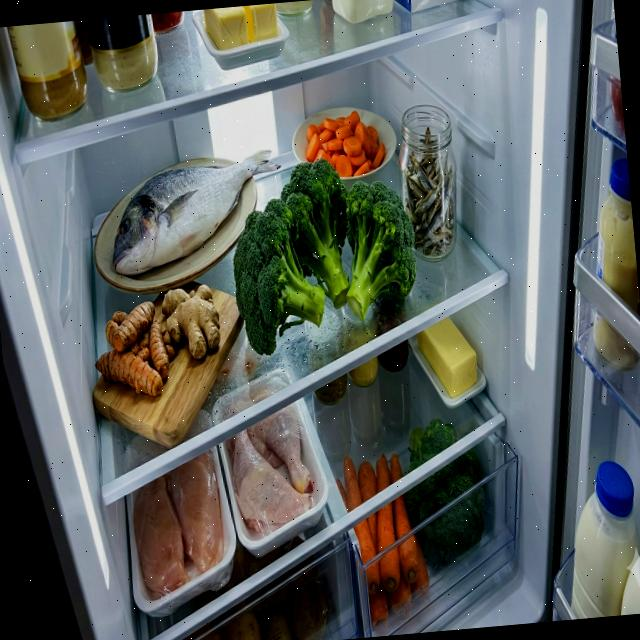anchovies: (397, 123, 460, 260)
brocolli: (224, 149, 424, 359), (398, 414, 490, 572)
carrot: (332, 448, 433, 636), (303, 108, 387, 180)
chicken: (128, 447, 228, 600), (226, 403, 317, 536)
fish: (103, 148, 290, 278)
ginger: (160, 283, 222, 362)
turmeric: (89, 298, 172, 402)
